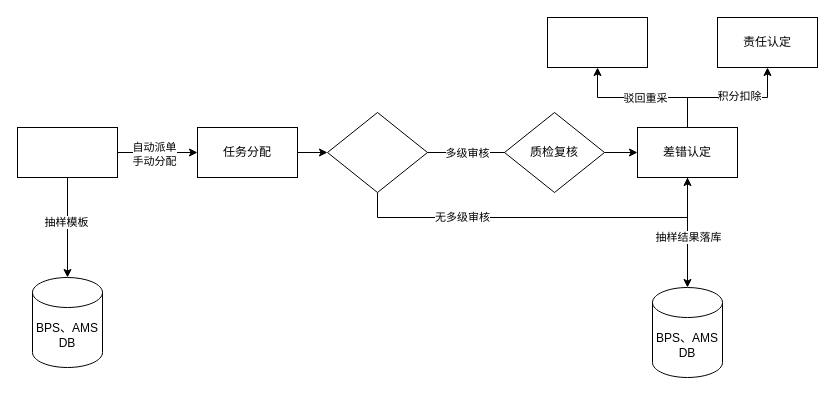
This 835x395 diagram has some shape labels left out. Each missing label, with the centre of its shape:
"受理流程" goes at (x=597, y=42).
"质检初检" goes at (x=377, y=152).
"质检抽样" goes at (x=67, y=152).
